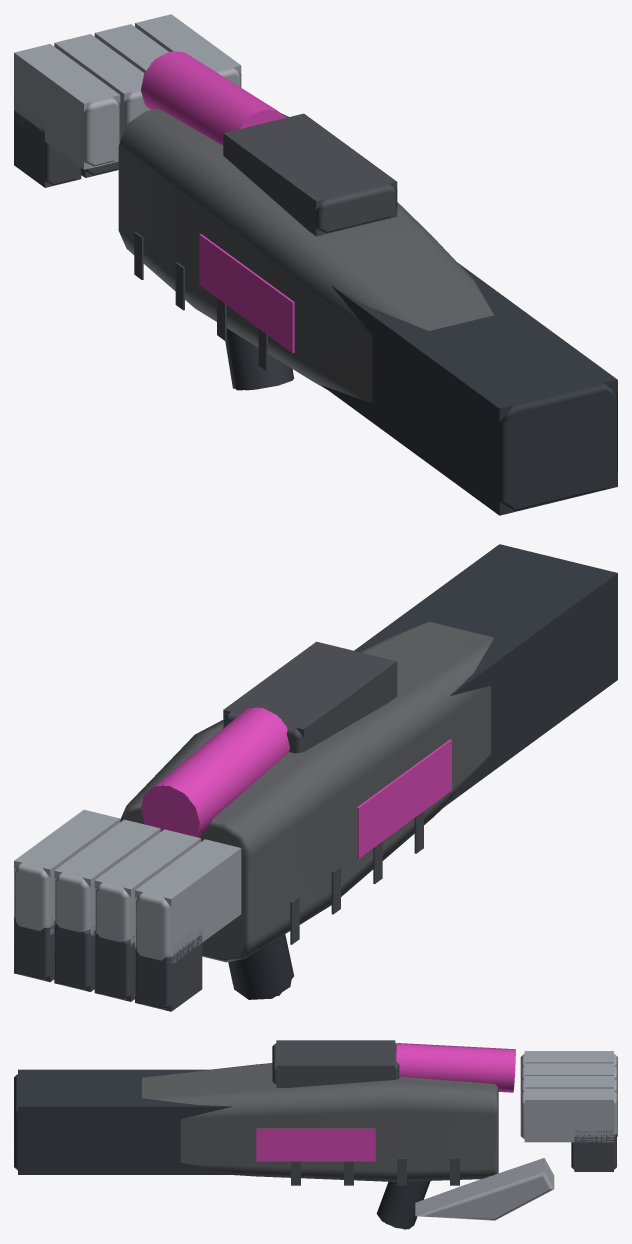
The model's file is m_gauntlet.glb.
3 renders of one model, top to bottom at view 1: azimuth 30°, elevation 25°; view 2: azimuth 150°, elevation 25°; view 3: azimuth 270°, elevation 25°, orthographic. The views are drawn at different scales.
Visible parts, largest first — view 1: L0, L1; view 2: L0, L1; view 3: L0, L1.
Boxes of the visible parts, box(x1,y1,x2,y2) form: L0: box(14, 16, 617, 512); L1: box(14, 14, 617, 515); L0: box(14, 547, 617, 1009); L1: box(14, 544, 617, 1011); L0: box(14, 1043, 617, 1229); L1: box(18, 1040, 613, 1229).
Size of the model in its own units: 0.1413 by 0.2003 by 0.608.
